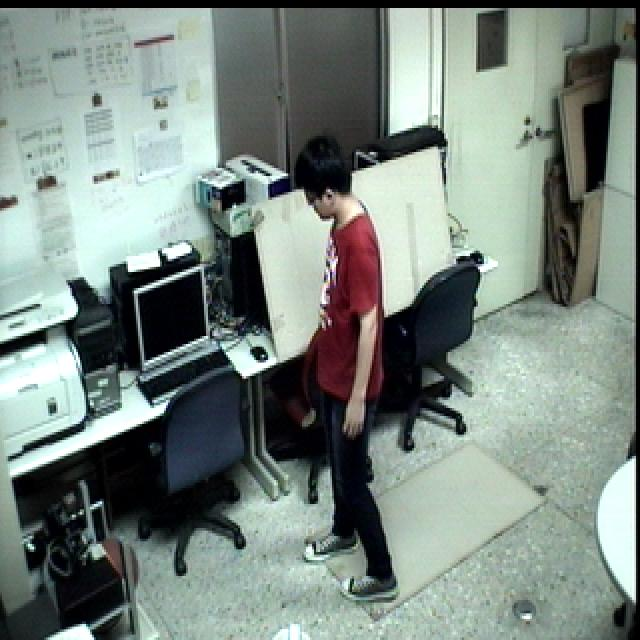stand: (286, 132, 418, 616)
